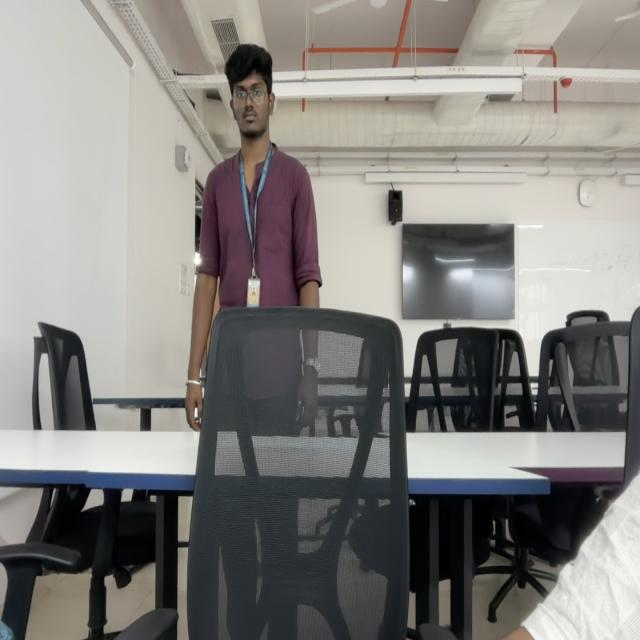ravindra: (224, 42, 276, 139)
